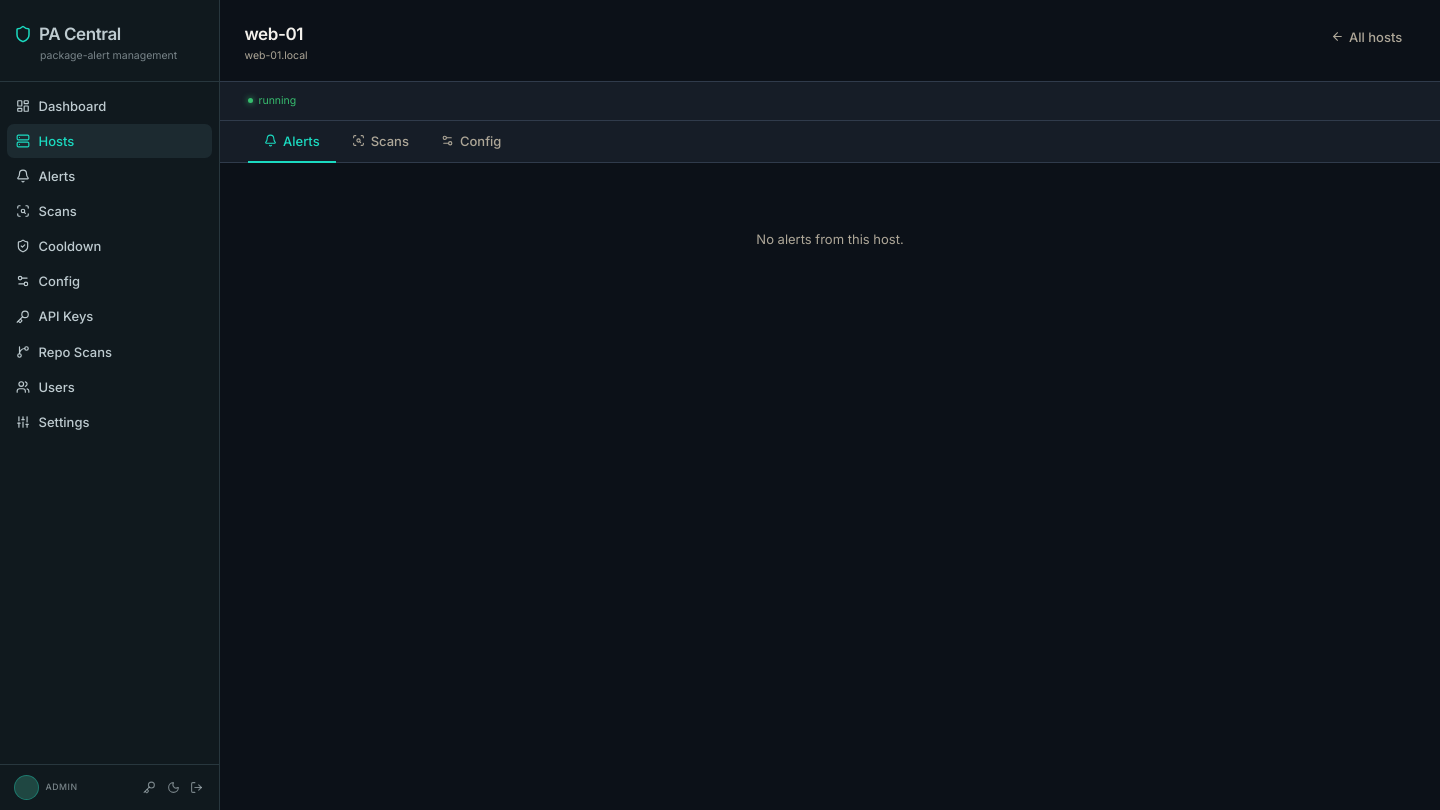
Test: host scan — scan checks › warns when some yank lookups failed
Click the tab "Scans": click(380, 142) [336,121,425,163]
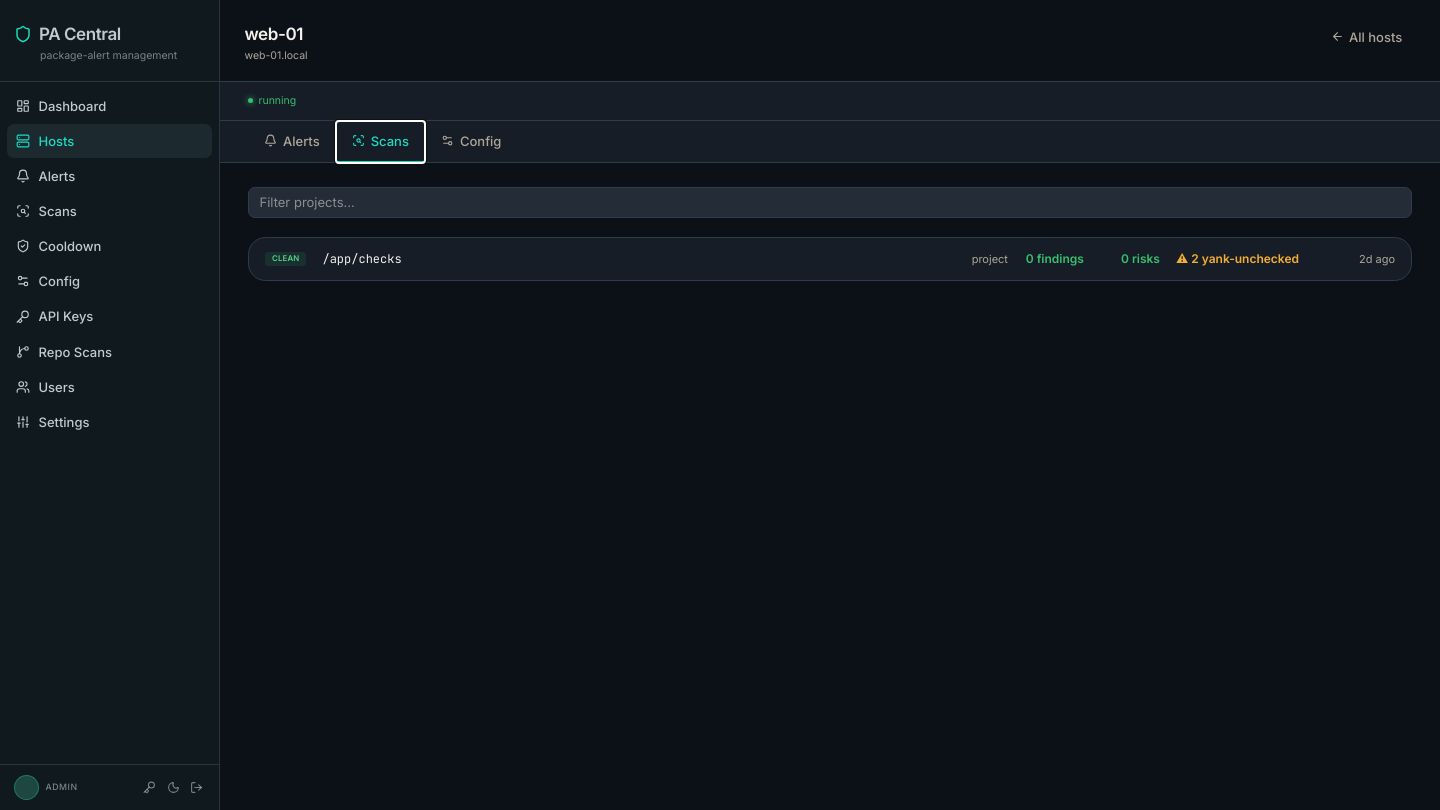
Now the text "/app/checks" is shown, box [322,251,402,267]
Now the text "⚠ 2 yank-unchecked" is shown, box [1176,250,1299,268]
